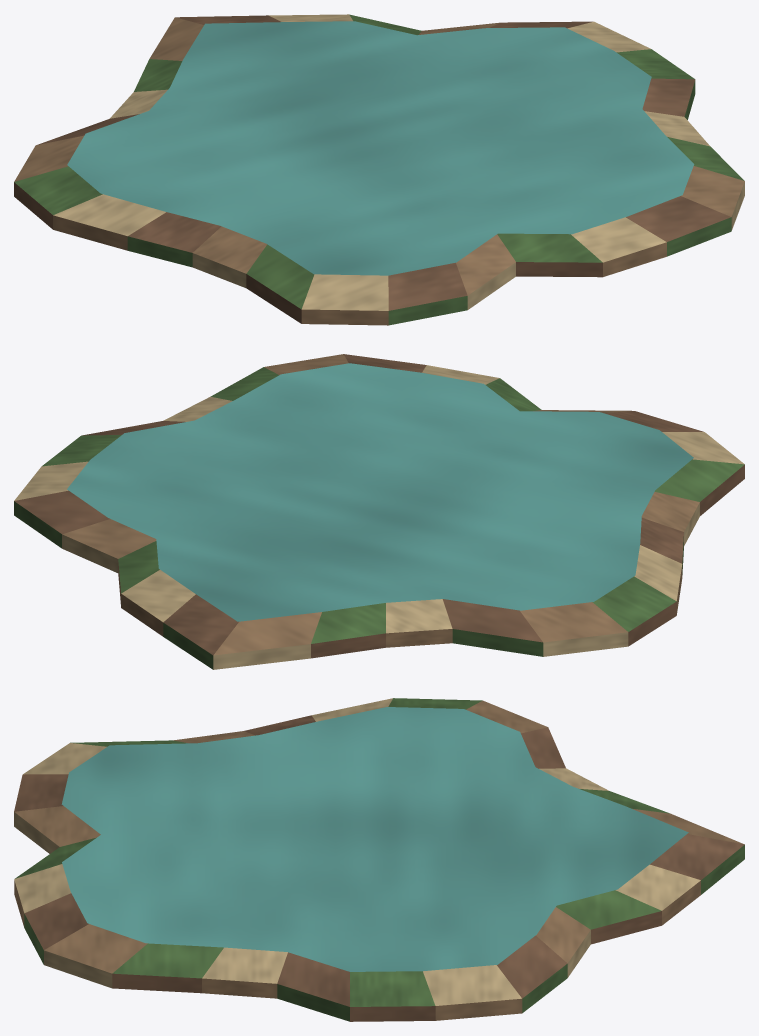
Rendered from pond_S.fbx.
3 views of the same model, one above another, from view 1: azimuth 30°, elevation 25°; view 2: azimuth 150°, elevation 25°; view 3: azimuth 270°, elevation 25° (orthographic). The views are drawn at different scales.
Visible parts, largest first — view 1: pond_S; view 2: pond_S; view 3: pond_S.
Part boxes in pixels (x1,y1,x2,y2): pond_S: (14,14,744,325); pond_S: (14,354,744,669); pond_S: (14,698,744,1021).
Bounding box in the file's own units: 800 × 34 × 800.
2 materials, 2 textured.
